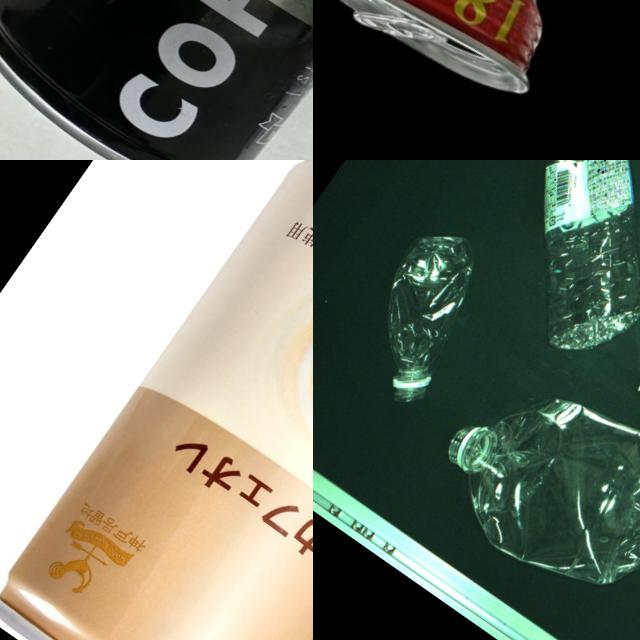Can: (0, 160, 313, 640), (0, 0, 313, 160), (313, 0, 640, 136)
Transparent Plastic Bottle: (412, 330, 640, 624), (436, 160, 640, 374), (326, 211, 517, 419)
